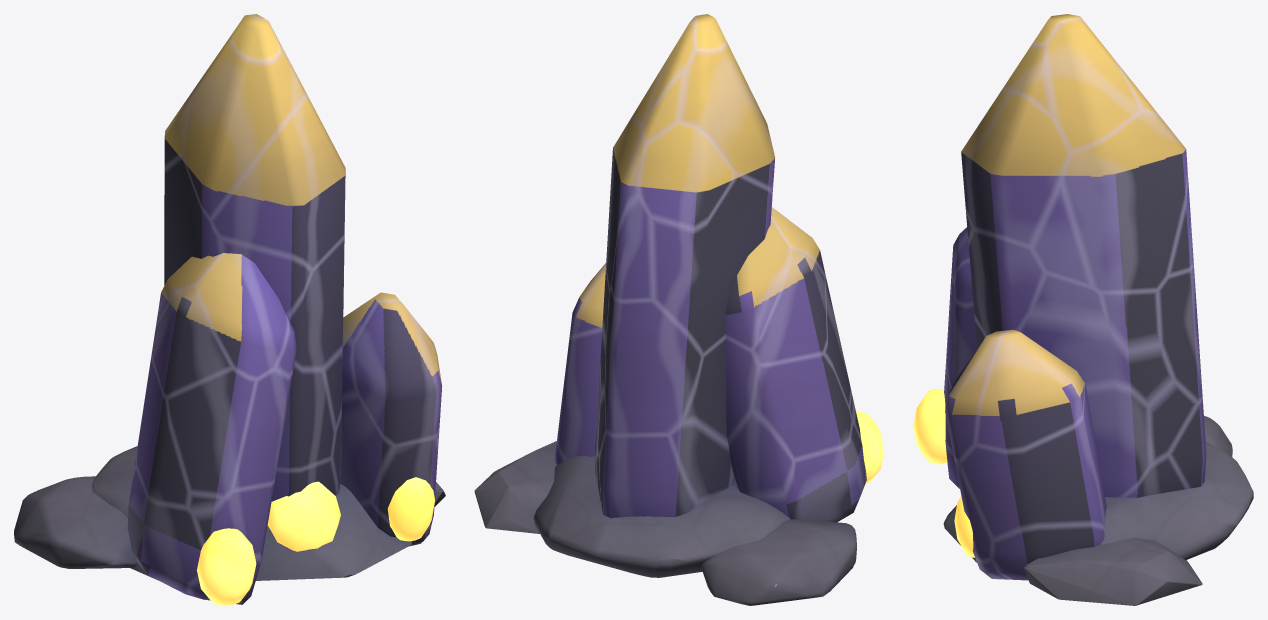
Rendered from EF_P01_ObsidianCrystal.fbx.
3 renders of one model, left to right at view 1: azimuth 30°, elevation 25°; view 2: azimuth 150°, elevation 25°; view 3: azimuth 270°, elevation 25°, orthographic. The views are drawn at different scales.
Parts seen in each view (by area): view 1: Crystal_A, Crystal_B, Crystal_C, Base; view 2: Crystal_A, Crystal_B, Base, Crystal_C; view 3: Crystal_A, Crystal_C, Base, Crystal_B.
Part boxes in pixels (box(x1,y1,x2,y2)): Crystal_A: box(164, 14, 345, 551); Crystal_B: box(127, 253, 296, 605); Crystal_C: box(340, 292, 442, 546); Base: box(14, 446, 445, 580); Crystal_A: box(595, 14, 775, 517); Crystal_B: box(725, 207, 884, 522); Base: box(474, 441, 856, 605); Crystal_C: box(555, 263, 606, 464); Crystal_A: box(961, 14, 1206, 497); Crystal_C: box(945, 329, 1106, 580); Base: box(943, 416, 1253, 605); Crystal_B: box(913, 227, 976, 488).
Size of the model in its own units: 1.5 by 2 by 1.2.
